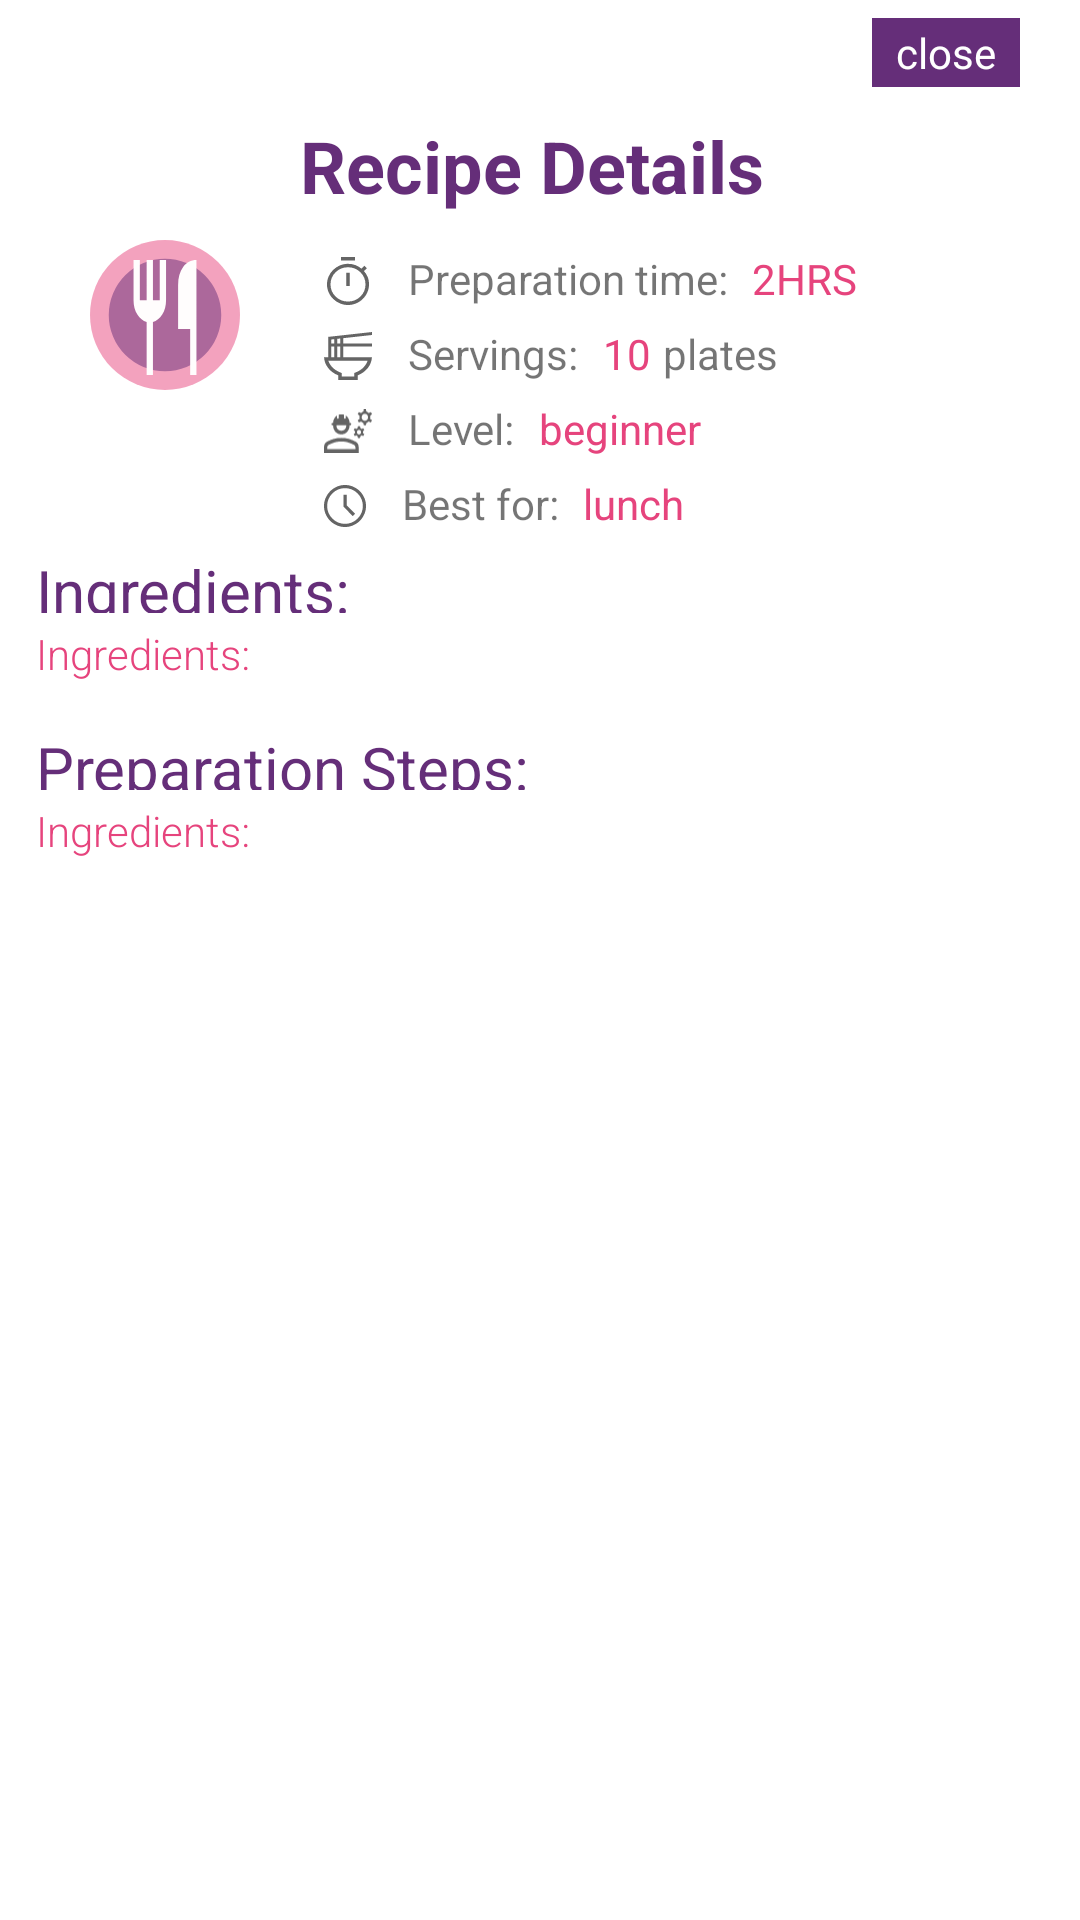

Point at icon controls on the screen. Image size 1080 x 1920, points as (x,y).
dish: (165,315)
meal time: (345,506)
prep time: (348,281)
